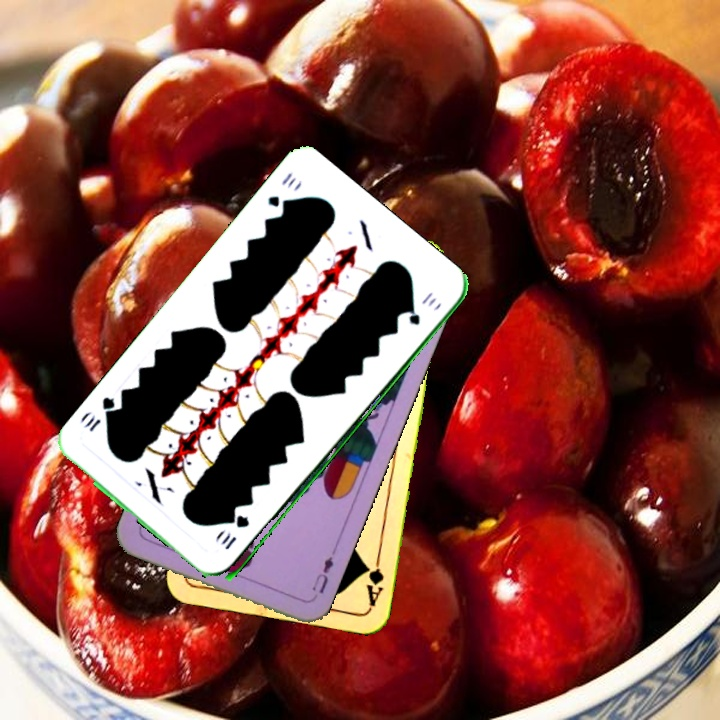EU: (308, 545, 339, 596)
G10: (263, 168, 298, 213), (220, 512, 252, 553)
GA: (361, 550, 386, 609)
